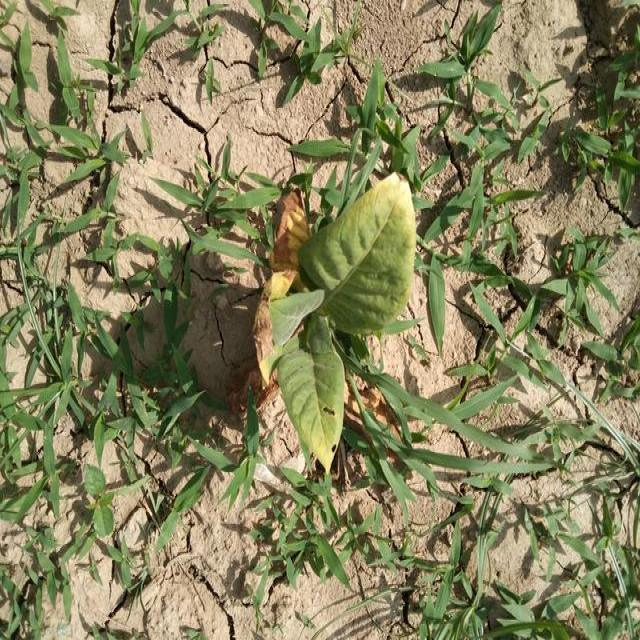crop: (255, 140, 428, 491)
